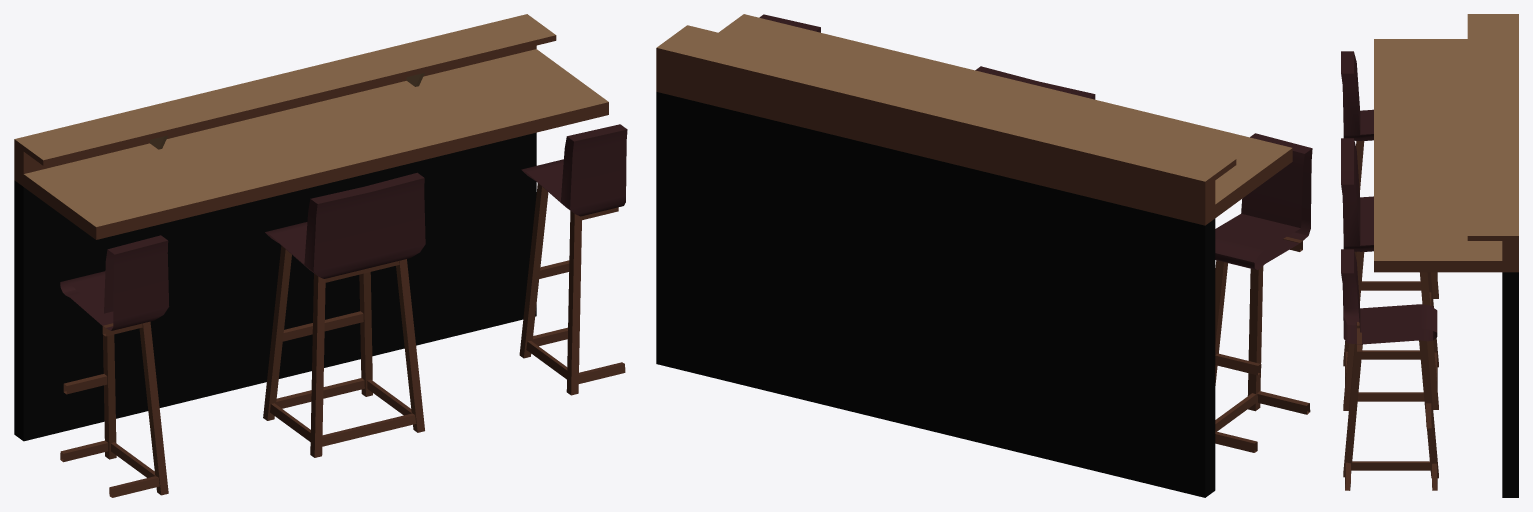
File: SettingTableRamen_Color.fbx
The picture shows the model from 3 angles, left to right: view 1: azimuth 30°, elevation 25°; view 2: azimuth 150°, elevation 25°; view 3: azimuth 270°, elevation 25°; orthographic projection. The views are drawn at different scales.
Parts seen in each view (by area): view 1: pCube18; view 2: pCube18; view 3: pCube18.
Boxes of the visible parts, x1,y1,x2,y2 form: pCube18: (14, 14, 627, 497); pCube18: (656, 14, 1312, 497); pCube18: (1341, 14, 1518, 497).
Size of the model in its own units: 18.21 by 10.02 by 6.17.
